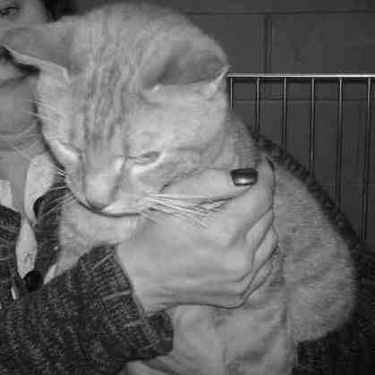cat: (2, 2, 365, 367)
